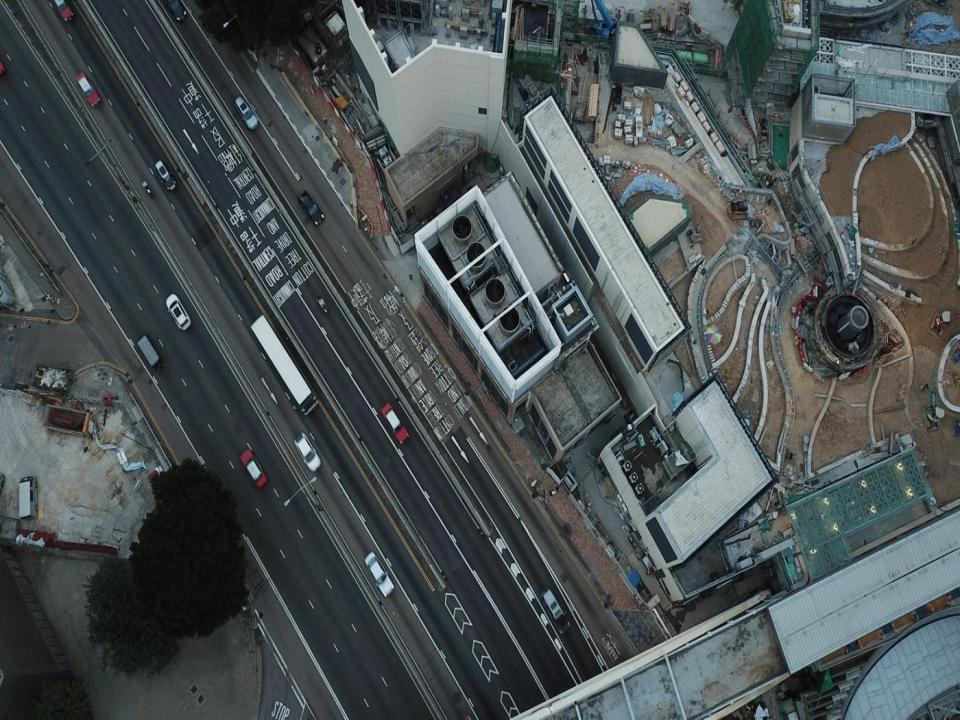bus: (250, 314, 317, 416)
car: (366, 550, 394, 596), (73, 69, 102, 108), (381, 402, 408, 443), (293, 432, 320, 472), (296, 190, 324, 228), (166, 292, 192, 332), (240, 450, 268, 487), (236, 99, 260, 129), (154, 159, 175, 192), (167, 0, 189, 24), (53, 0, 75, 24)
van: (540, 585, 570, 633), (134, 333, 161, 371), (18, 475, 37, 520)
